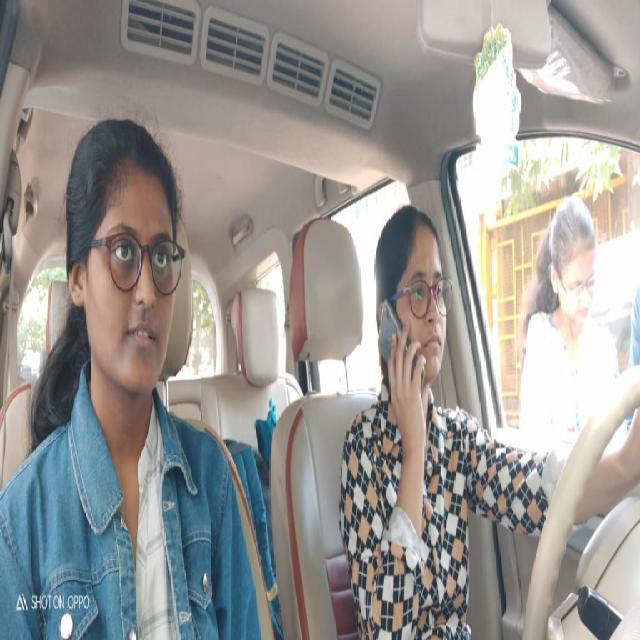mobile: (373, 294, 432, 410)
person: (59, 113, 186, 408), (369, 194, 454, 386)
